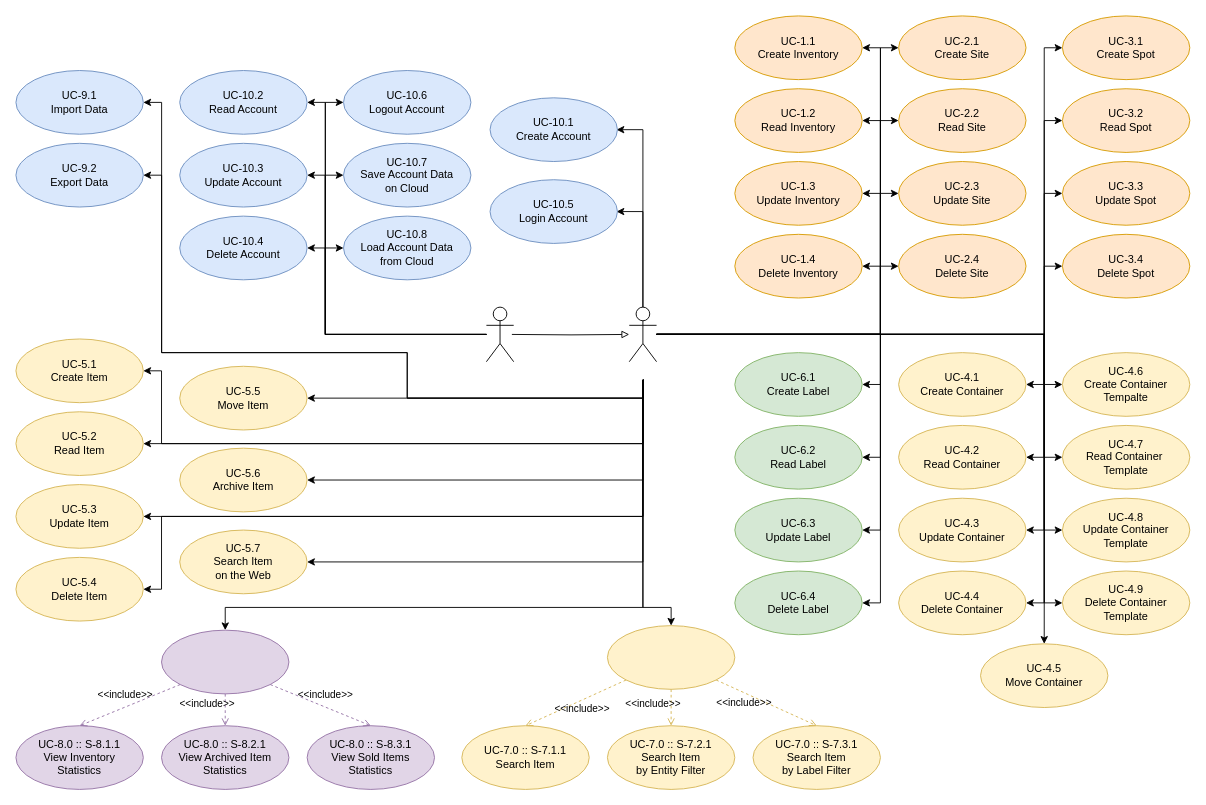
Some shapes in this 1206 by 805 pixel diagram are drawn without their labels. Each missing label, with the centre of its shape:
"BaseUser" belongs at (642,334).
"LoggedUser" belongs at (499,334).
"UC-7.0 Search Items" belongs at (671,657).
"UC-8.0 View Statistics" belongs at (225,661).
